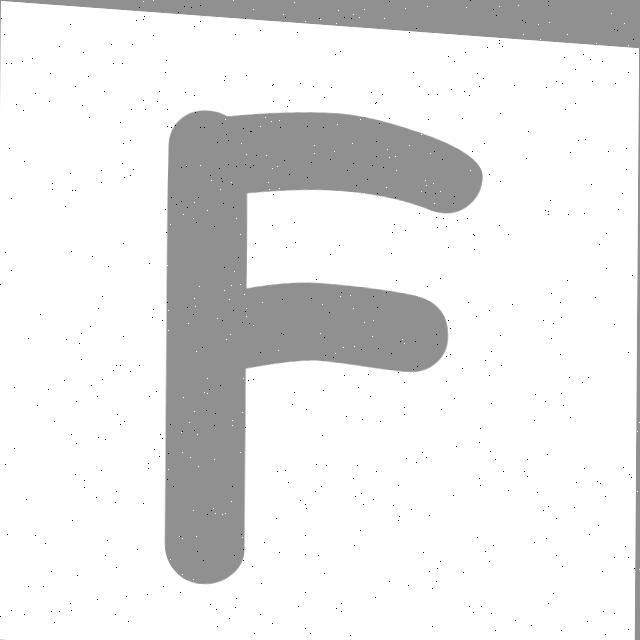F: (166, 107, 483, 580)
